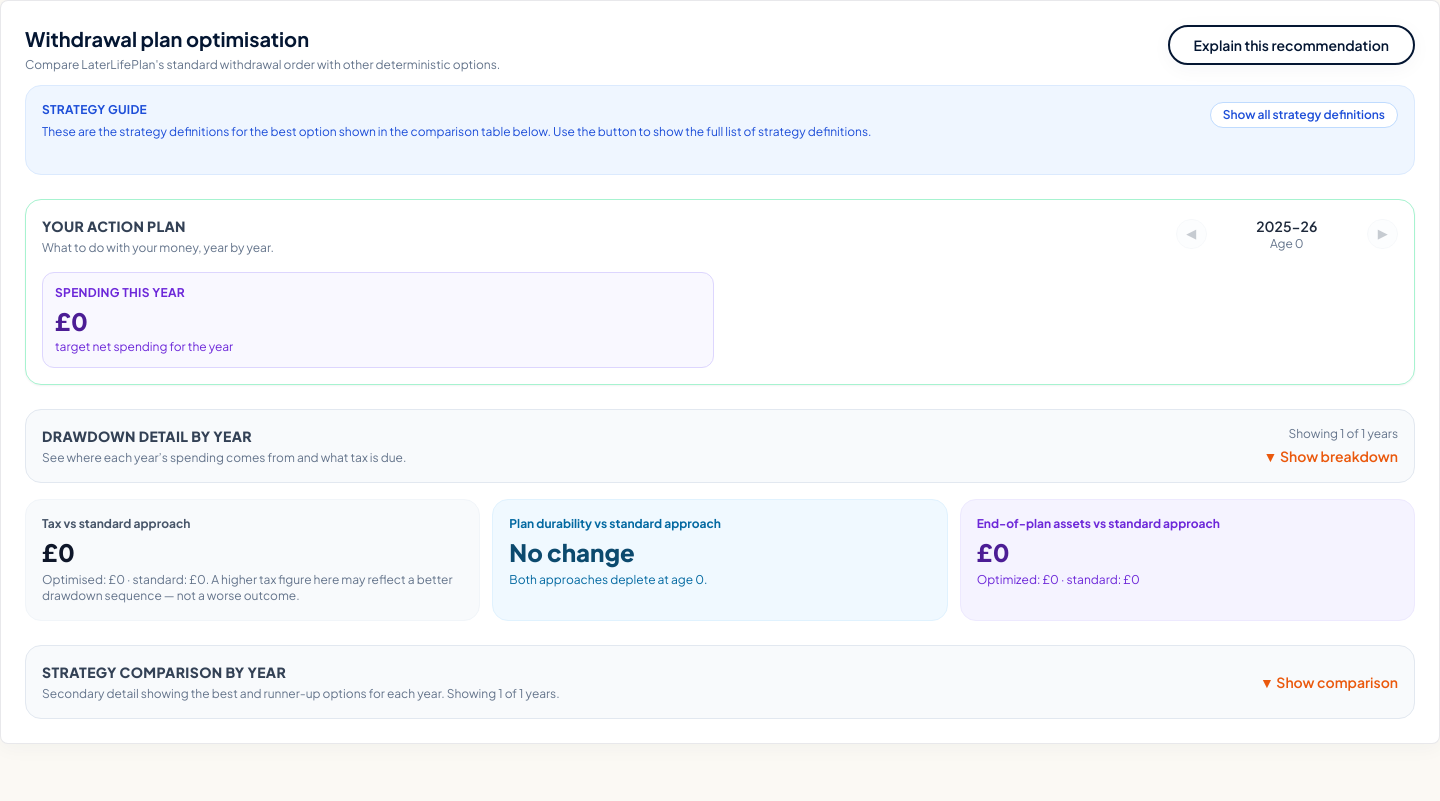
Test case: OptimizerPanel › uses a shaded sticky age column in the drawdown breakdown table
Click the button "▼ Show breakdown": (1331, 456) [1264,446,1398,466]
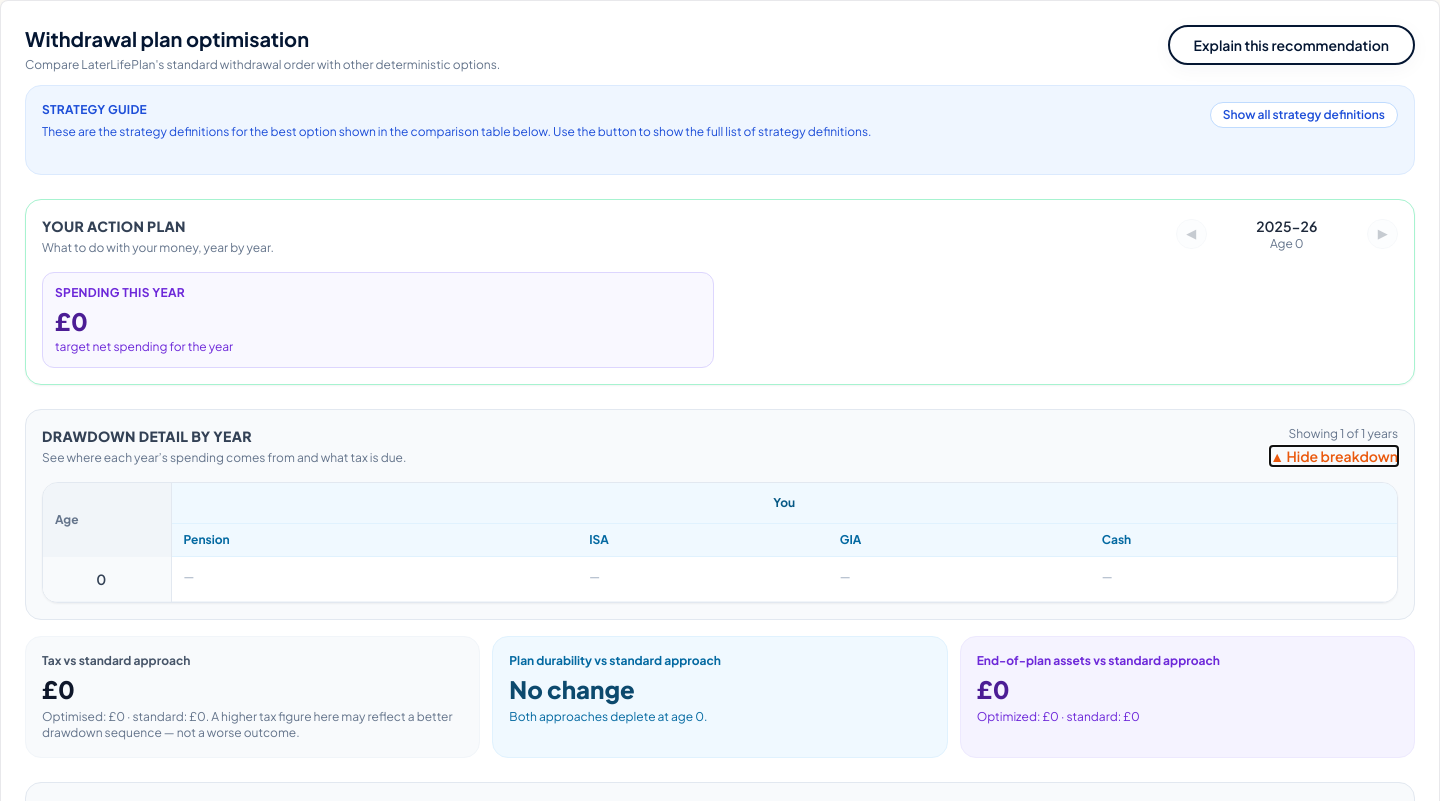
expect the column heading "Age" is shown: met, box [43,483,171,556]
expect the column heading "0" is shown: met, box [43,556,171,602]
